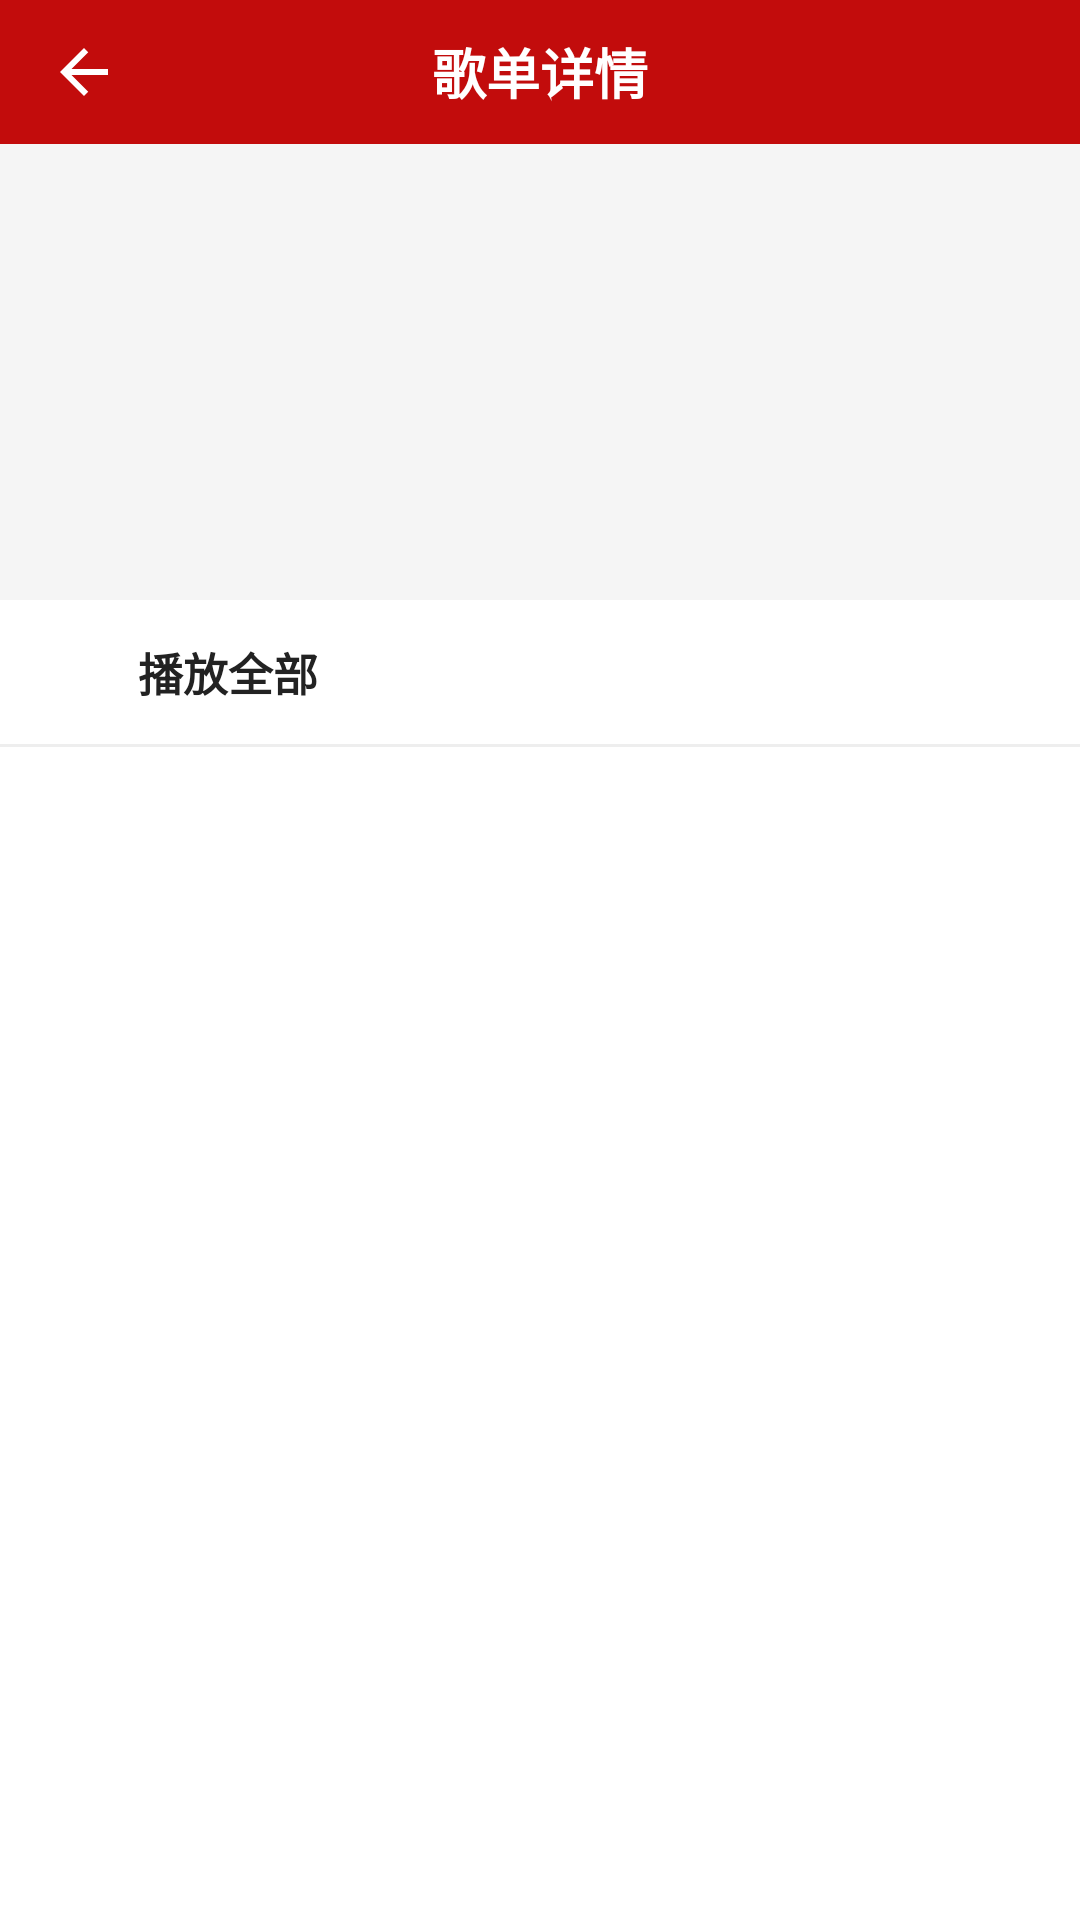

Icon bounding boxes for this 1080×1920 phone screenshot, format (x1, y1, x2, y2):
返回: (60, 48, 108, 96)
